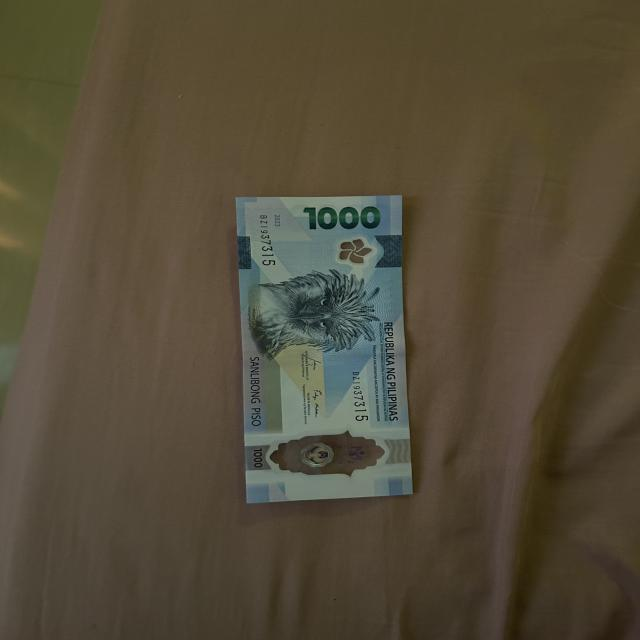clear_window: (260, 431, 395, 478)
eagle: (243, 274, 382, 353)
sampaguita: (332, 236, 376, 266)
